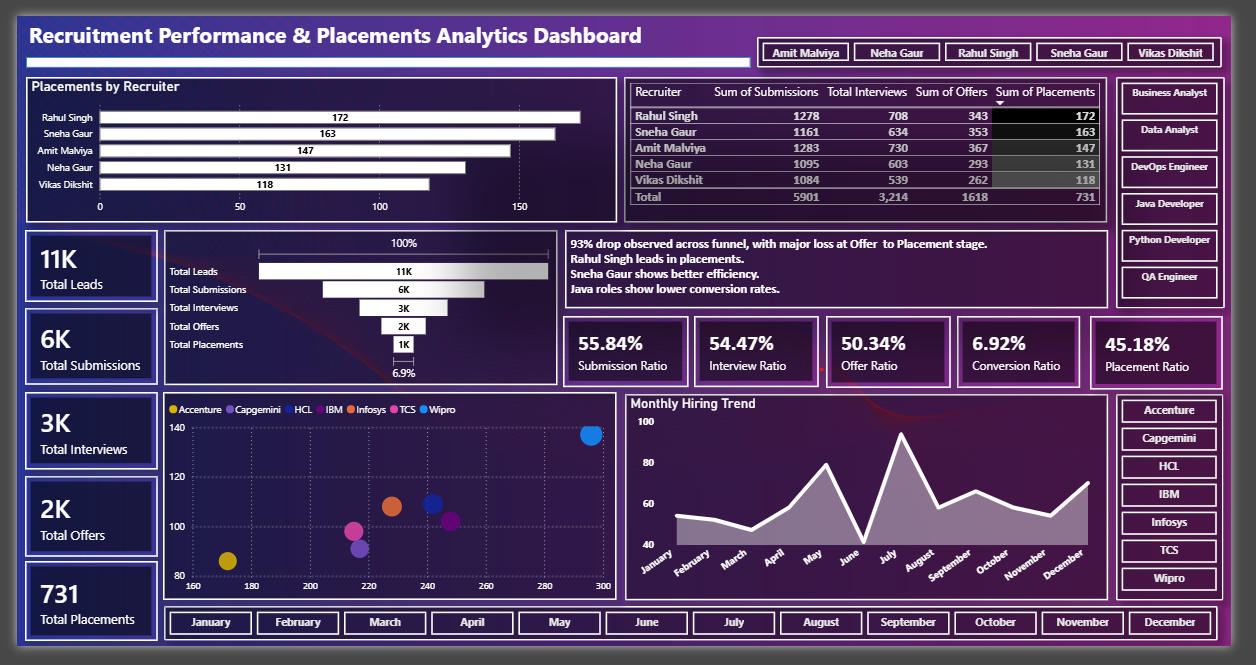

This screenshot's page, from the dashboard's own definition file:
{"tool":"powerbi","page":{"name":"Overview","canvas":[1518,787],"ordinal":0},"visuals":[{"type":"tableEx","fields":{"Values":["Table1.Recruiter","Sum(Table1.Submissions)","Table1.Total Interviews","Sum(Table1.Offers)","Sum(Table1.Placements)"]},"box":[758.9,76.7,604.4,182.2],"z":0},{"type":"funnel","fields":{"Y":["Table1.Total Leads","Table1.Total Submissions","Table1.Total Interviews","Table1.Total Offers","Table1.Total Placements"]},"box":[183.3,267.8,492.2,194.4],"z":1000},{"type":"lineChart","title":"Monthly Hiring Trend","fields":{"Category":["Table1.Date.Variation.Date Hierarchy.Month"],"Y":["Sum(Table1.Placements)"]},"box":[760,472.2,604.4,257.8],"z":2000},{"type":"textbox","box":[684.4,267.8,678.9,97.8],"z":3000},{"type":"advancedSlicerVisual","fields":{"Values":["Table1.Role"]},"box":[1373.3,76.7,135.6,288.9],"z":4000},{"type":"advancedSlicerVisual","fields":{"Values":["Table1.Client"]},"box":[1373.3,472.2,134.4,257.8],"z":5000},{"type":"advancedSlicerVisual","fields":{"Values":["Table1.Recruiter"]},"box":[925.6,26.7,581.1,37.8],"z":6000},{"type":"advancedSlicerVisual","fields":{"Label":["Min(Table1.Date.Variation.Date Hierarchy.Month)"],"Values":["Table1.Date.Variation.Date Hierarchy.Month"]},"box":[183.3,737.8,1317,43],"z":7000},{"type":"clusteredBarChart","fields":{"Category":["Table1.Recruiter"],"Y":["Sum(Table1.Placements)"]},"box":[11.1,76.7,738.9,182.2],"z":8000},{"type":"cardVisual","fields":{"Data":["Table1.Total Offers"]},"box":[10,574.4,165.6,101.1],"z":9000},{"type":"cardVisual","fields":{"Data":["Table1.Total Submissions"]},"box":[10,365.6,165.6,95.6],"z":10000},{"type":"cardVisual","fields":{"Data":["Table1.Total Placements"]},"box":[10,681.1,165.6,100],"z":11000},{"type":"cardVisual","fields":{"Data":["Table1.Client Conversion %"]},"box":[1174.4,374.4,154.4,90],"z":12000},{"type":"cardVisual","fields":{"Data":["Table1.Submission Rate2"]},"box":[682.2,374.4,156.7,88.9],"z":13000},{"type":"cardVisual","fields":{"Data":["Table1.Total Interviews"]},"box":[10,470,165.6,96.7],"z":14000},{"type":"cardVisual","fields":{"Data":["Table1.Interview Rate2"]},"box":[846.7,374.4,155.6,88.9],"z":15000},{"type":"cardVisual","fields":{"Data":["Table1.Placement Rate2"]},"box":[1341.1,374.4,165.6,92.2],"z":16000},{"type":"cardVisual","fields":{"Data":["Table1.Offer Rate2"]},"box":[1011.1,374.4,155.6,90],"z":17000},{"type":"scatterChart","fields":{"X":["Table1.Total Offers"],"Y":["Table1.Total Placements"],"Series":["Table1.Client"],"Size":["Table1.Total Placements"]},"box":[183,470,567,260],"z":18000},{"type":"cardVisual","fields":{"Data":["Table1.Total Leads"]},"box":[10,267.8,165.6,90],"z":19000},{"type":"textbox","box":[10,0,777.8,51.1],"z":20000},{"type":"shape","box":[11.1,51.1,905.6,13.3],"z":21000}]}

Visuals, with their boxes in screenshot pixels (x1, y1, x2, y2), scaled from the page's 1518x787 canvas onto the 1256x665 screenshot:
tableEx - Table1.Recruiter x Sum(Table1.Submissions): bbox(628, 65, 1128, 219)
funnel - Table1.Total Leads x Table1.Total Submissions: bbox(152, 226, 559, 391)
"Monthly Hiring Trend" lineChart: bbox(629, 399, 1129, 617)
textbox: bbox(566, 226, 1128, 309)
advancedSlicerVisual - Table1.Role: bbox(1136, 65, 1248, 309)
advancedSlicerVisual - Table1.Client: bbox(1136, 399, 1247, 617)
advancedSlicerVisual - Table1.Recruiter: bbox(766, 23, 1247, 55)
advancedSlicerVisual - Min(Table1.Date.Variation.Date Hierarchy.Month) x Table1.Date.Variation.Date Hierarchy.Month: bbox(152, 623, 1241, 660)
clusteredBarChart - Table1.Recruiter x Sum(Table1.Placements): bbox(9, 65, 621, 219)
cardVisual - Table1.Total Offers: bbox(8, 485, 145, 571)
cardVisual - Table1.Total Submissions: bbox(8, 309, 145, 390)
cardVisual - Table1.Total Placements: bbox(8, 576, 145, 660)
cardVisual - Table1.Client Conversion %: bbox(972, 316, 1099, 392)
cardVisual - Table1.Submission Rate2: bbox(564, 316, 694, 391)
cardVisual - Table1.Total Interviews: bbox(8, 397, 145, 479)
cardVisual - Table1.Interview Rate2: bbox(701, 316, 829, 391)
cardVisual - Table1.Placement Rate2: bbox(1110, 316, 1247, 394)
cardVisual - Table1.Offer Rate2: bbox(837, 316, 965, 392)
scatterChart - Table1.Total Offers x Table1.Total Placements: bbox(151, 397, 621, 617)
cardVisual - Table1.Total Leads: bbox(8, 226, 145, 302)
textbox: bbox(8, 0, 652, 43)
shape: bbox(9, 43, 758, 54)
